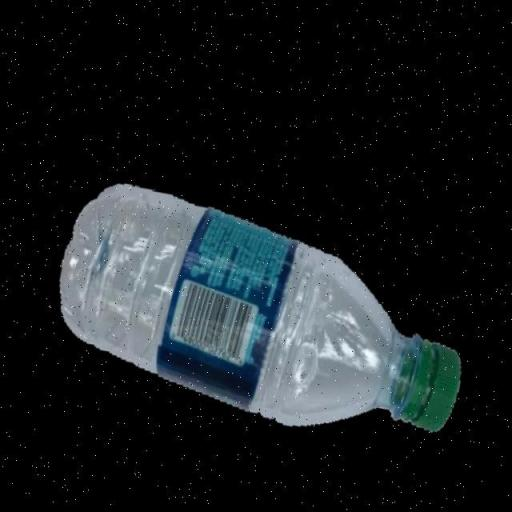plastic: (40, 169, 486, 461)
